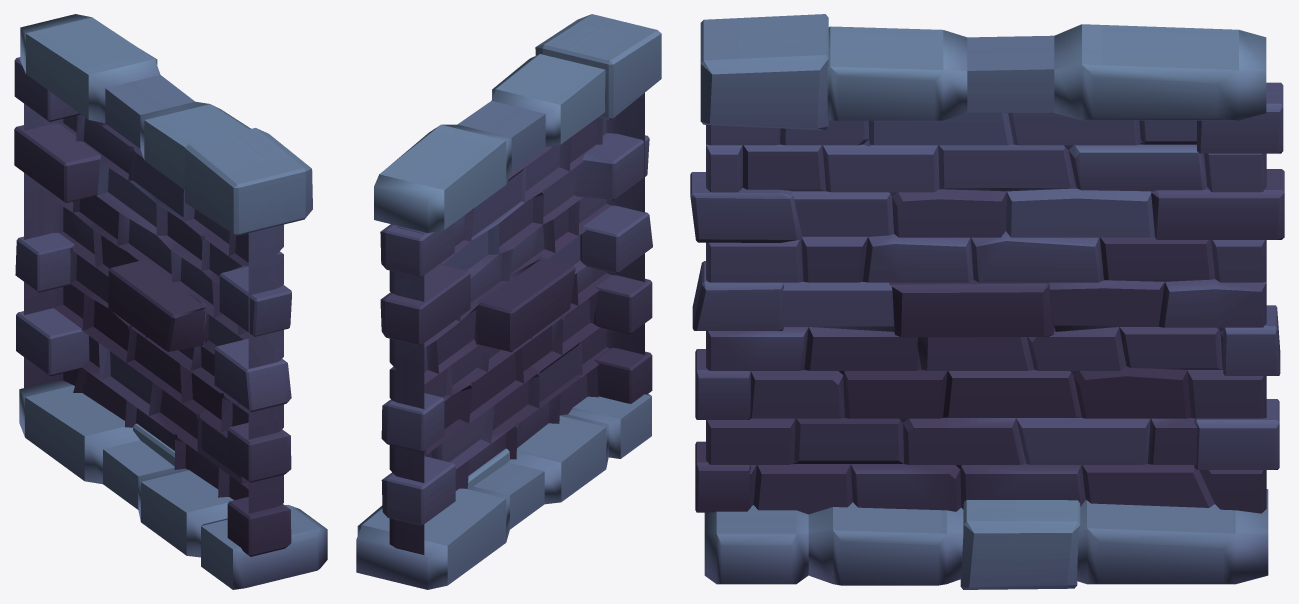
Rendered from WallChunk1.fbx.
3 renders of one model, left to right at view 1: azimuth 30°, elevation 25°; view 2: azimuth 150°, elevation 25°; view 3: azimuth 270°, elevation 25°, orthographic. The views are drawn at different scales.
Parts seen in each view (by area): view 1: pCube415; view 2: pCube415; view 3: pCube415.
Part boxes in pixels (bbox=[...]): pCube415: bbox=[14, 14, 327, 589]; pCube415: bbox=[356, 14, 661, 589]; pCube415: bbox=[690, 14, 1284, 589].
Bounding box in the file's own units: 1.43 × 5.67 × 5.83.
